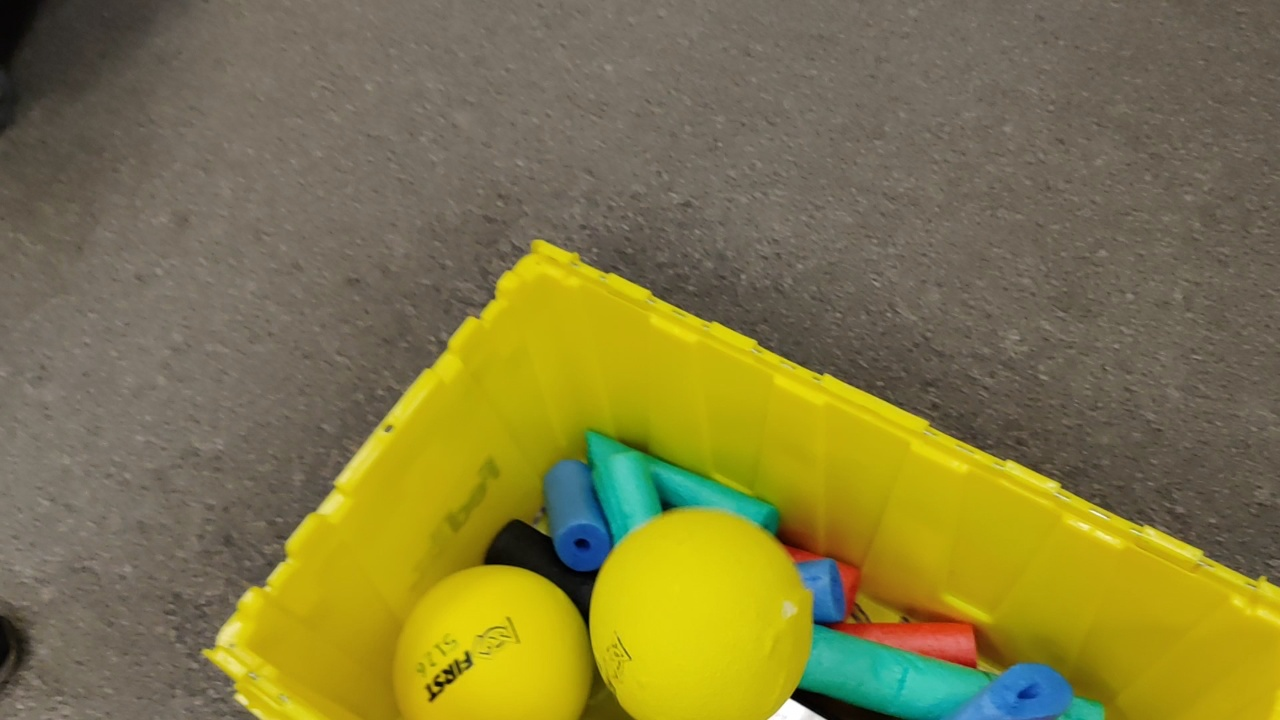Ball: (592, 508, 842, 712), (391, 561, 591, 720)
